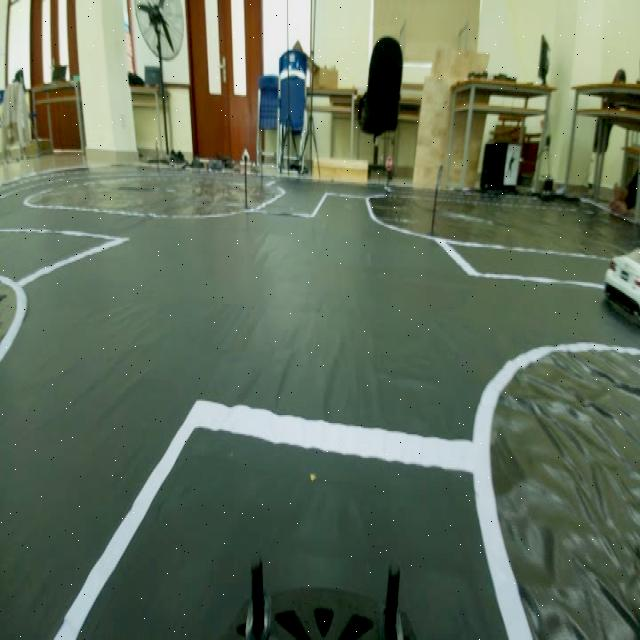car: (596, 239, 638, 325)
